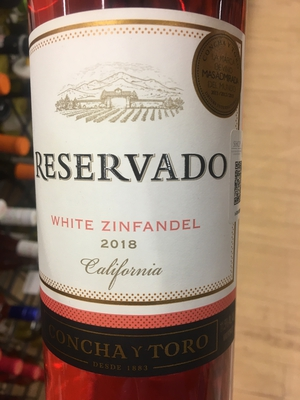reservado white zinfandel: (26, 3, 245, 400)
